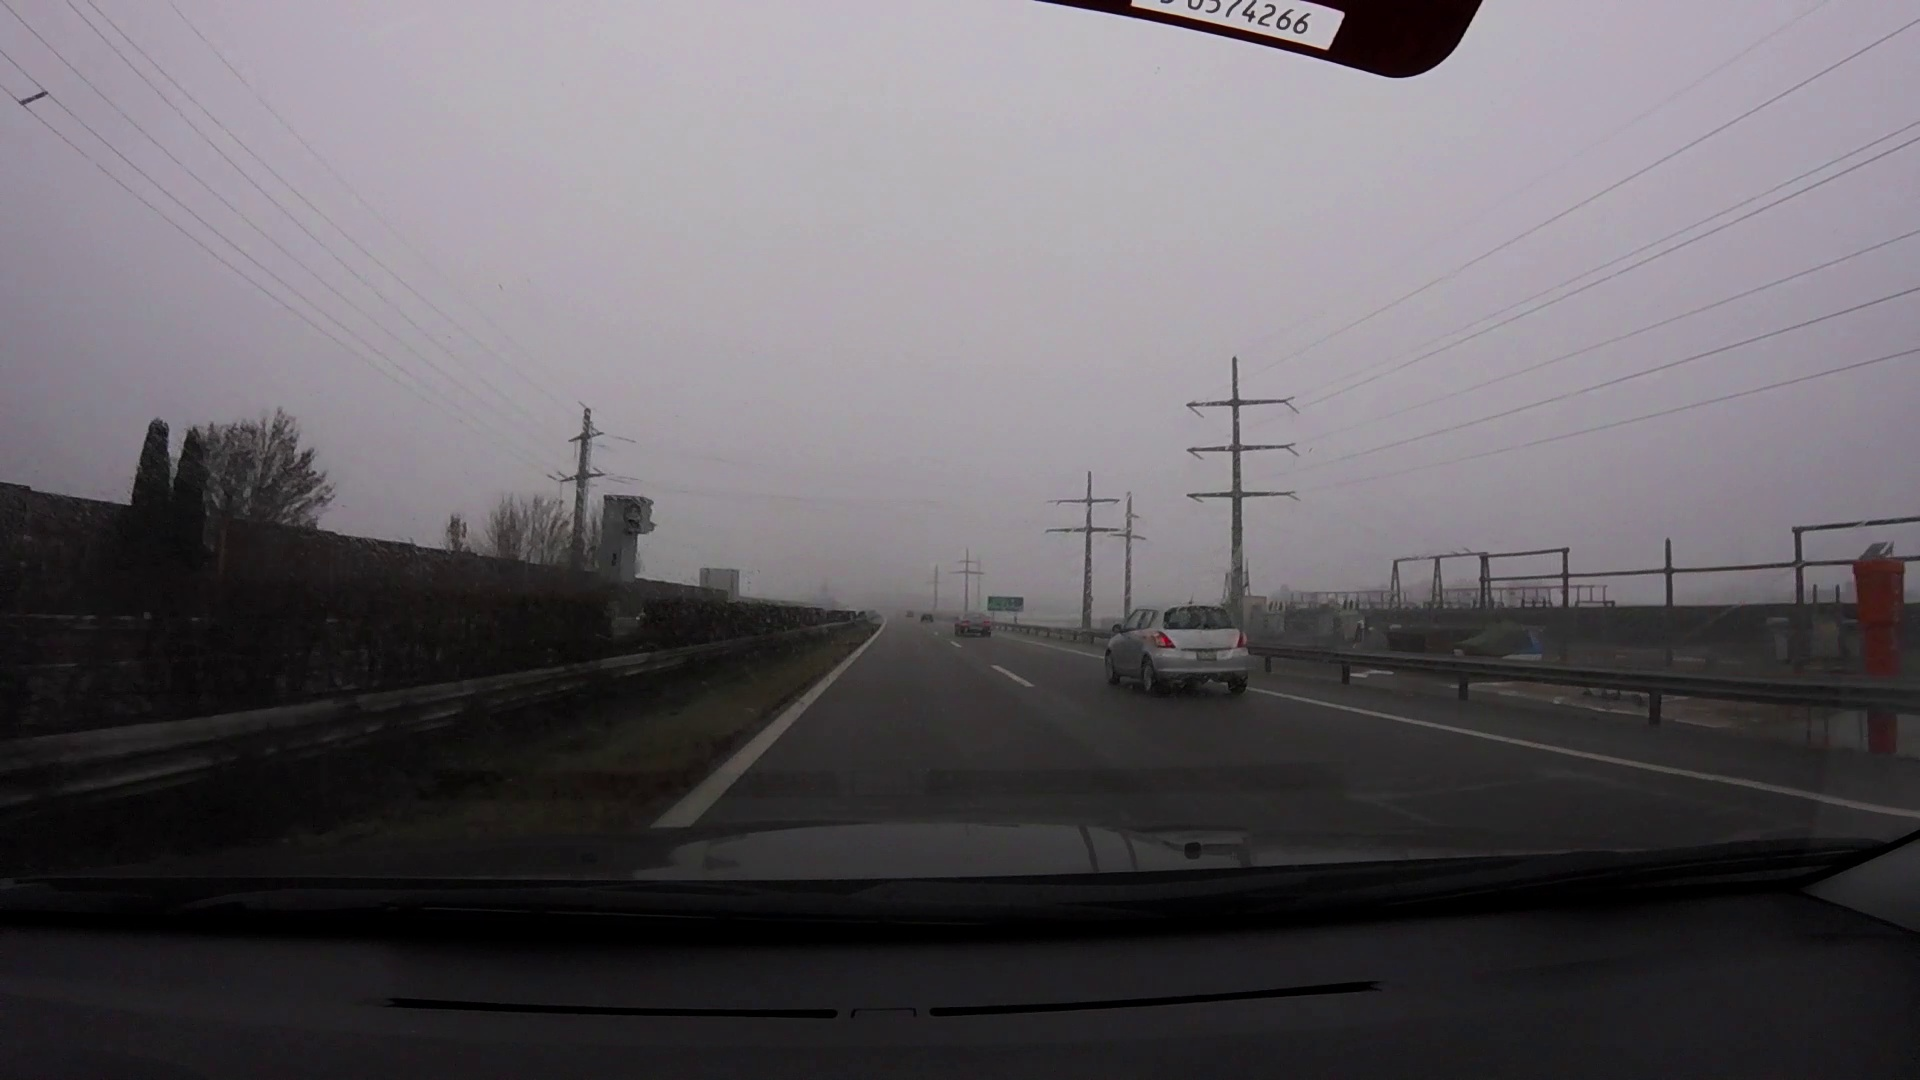radar: (599, 493, 657, 607)
